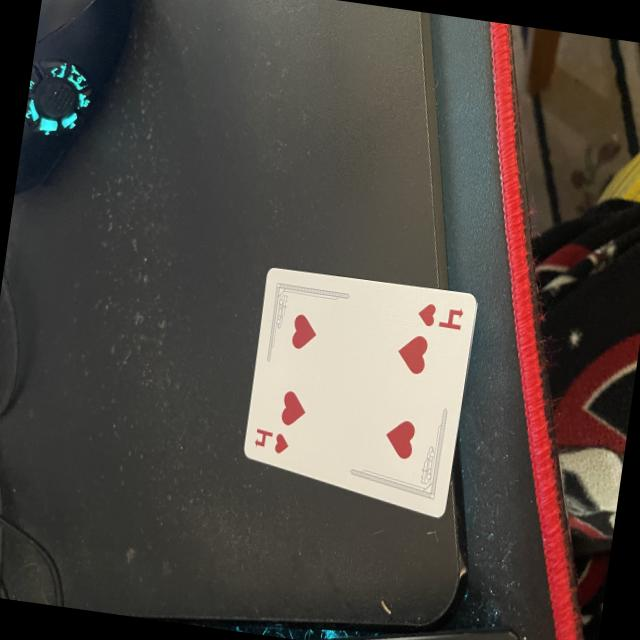4 of hearts: (245, 265, 478, 517)
